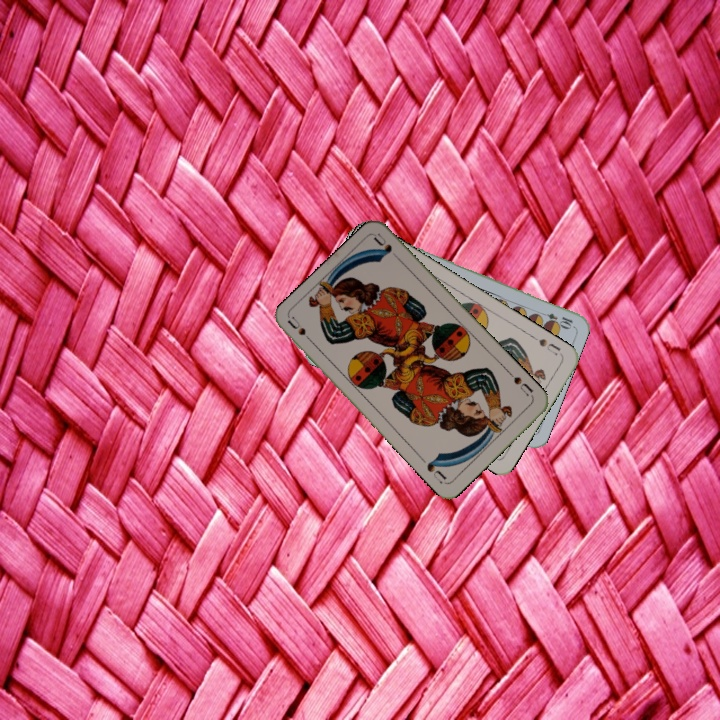E10: (535, 308, 575, 330)
SU: (284, 313, 318, 348), (504, 368, 536, 401), (528, 332, 563, 358)
